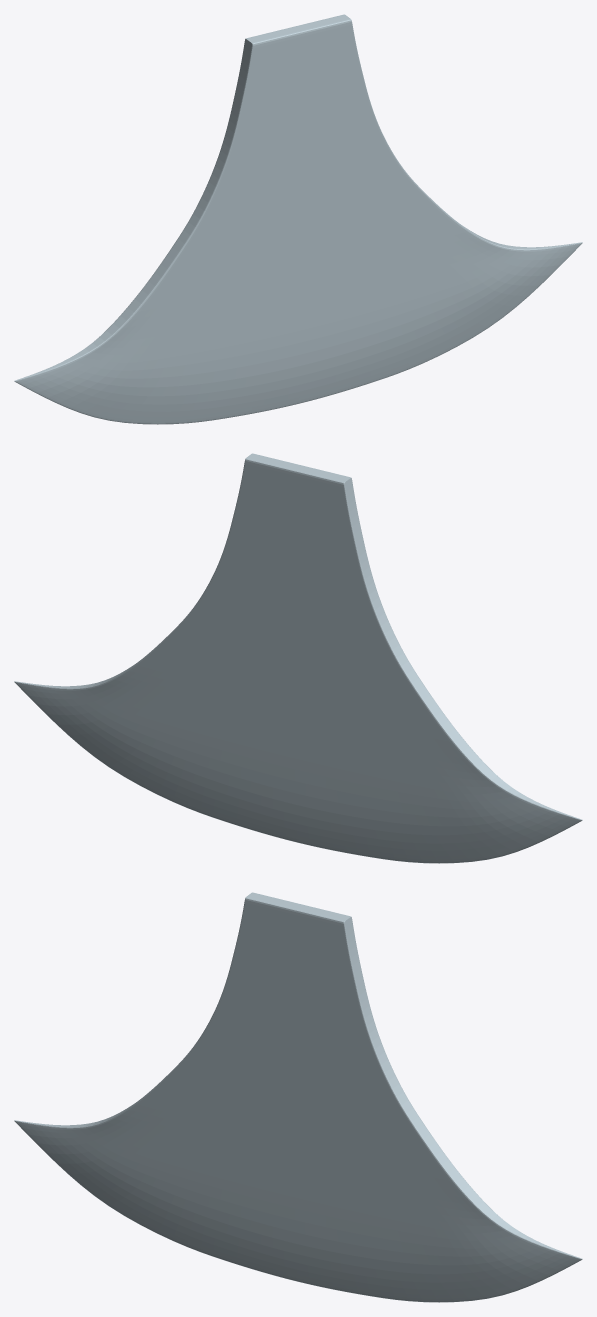
3 views of the same model, one above another, from view 1: azimuth 30°, elevation 25°; view 2: azimuth 150°, elevation 25°; view 3: azimuth 330°, elevation 25° (orthographic).
Visible parts, largest first — view 1: Cube; view 2: Cube; view 3: Cube.
Boxes of the visible parts, x1=… form: Cube: x1=14, y1=14, x2=582, y2=424; Cube: x1=14, y1=453, x2=582, y2=863; Cube: x1=14, y1=892, x2=582, y2=1302.
Size of the model in its own units: 1147 by 723 by 28.08.
